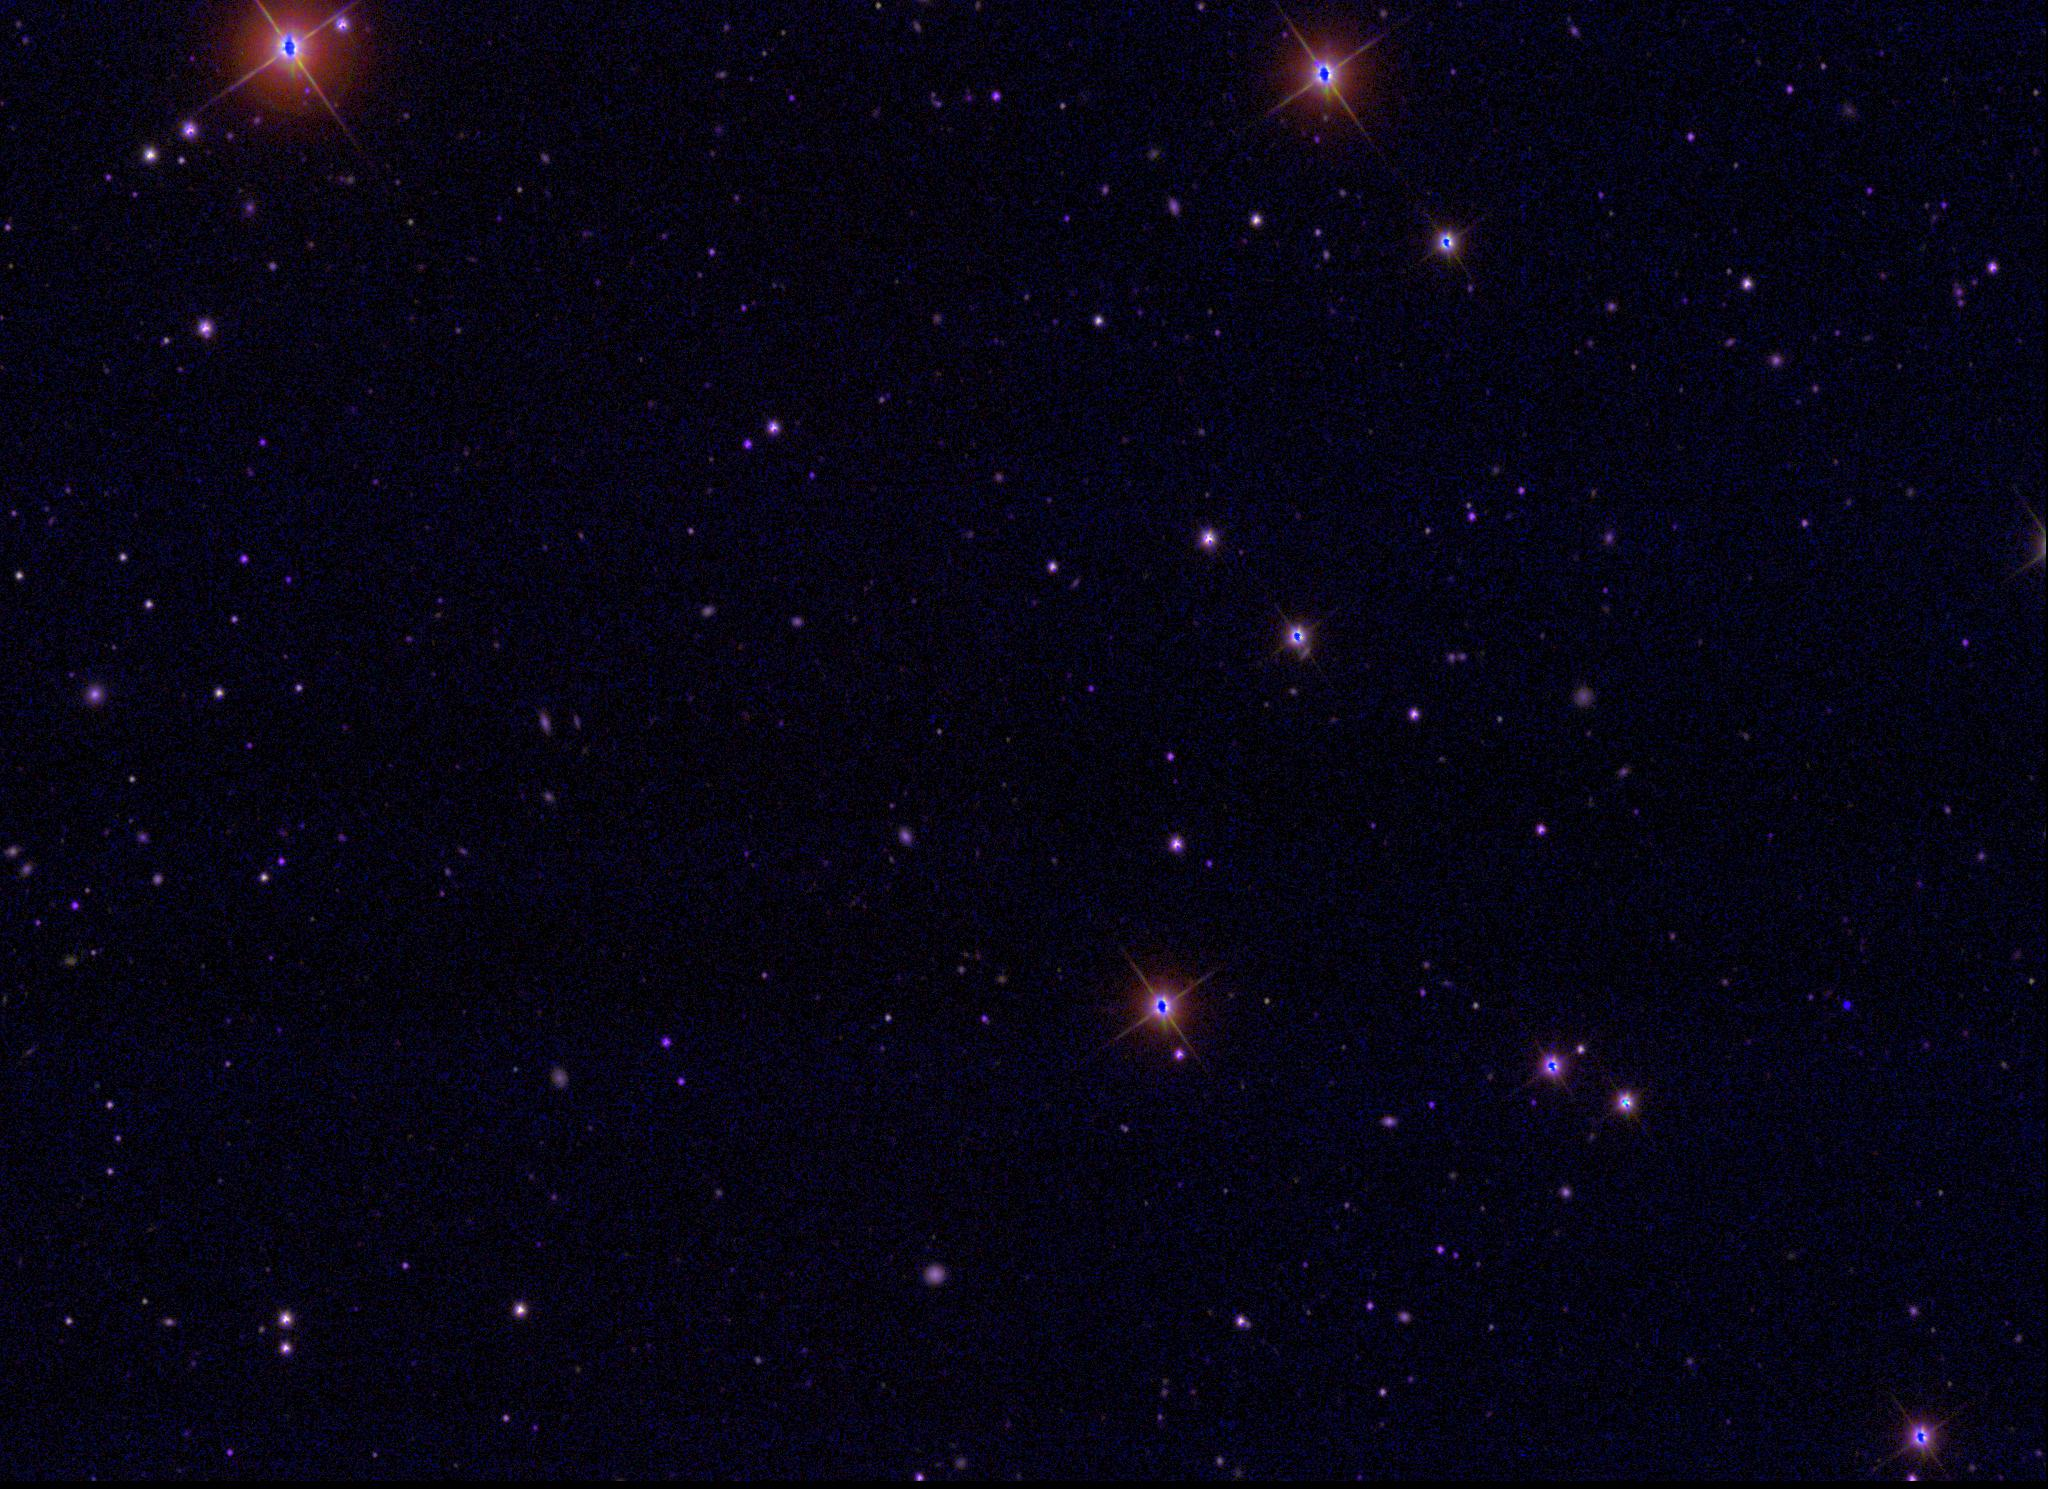L: (1840, 999, 1852, 1013)
